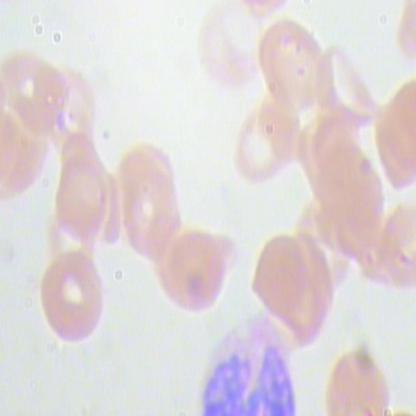RBC: (251, 9, 333, 123), (115, 138, 179, 270), (0, 34, 74, 146), (36, 242, 108, 350), (158, 218, 230, 326), (310, 142, 382, 250), (192, 1, 266, 102), (50, 149, 116, 251), (246, 221, 312, 323), (235, 98, 301, 200), (317, 37, 382, 131), (370, 70, 416, 198), (319, 341, 395, 415), (0, 112, 47, 216), (375, 202, 415, 298)
WBC: (189, 312, 302, 415)
